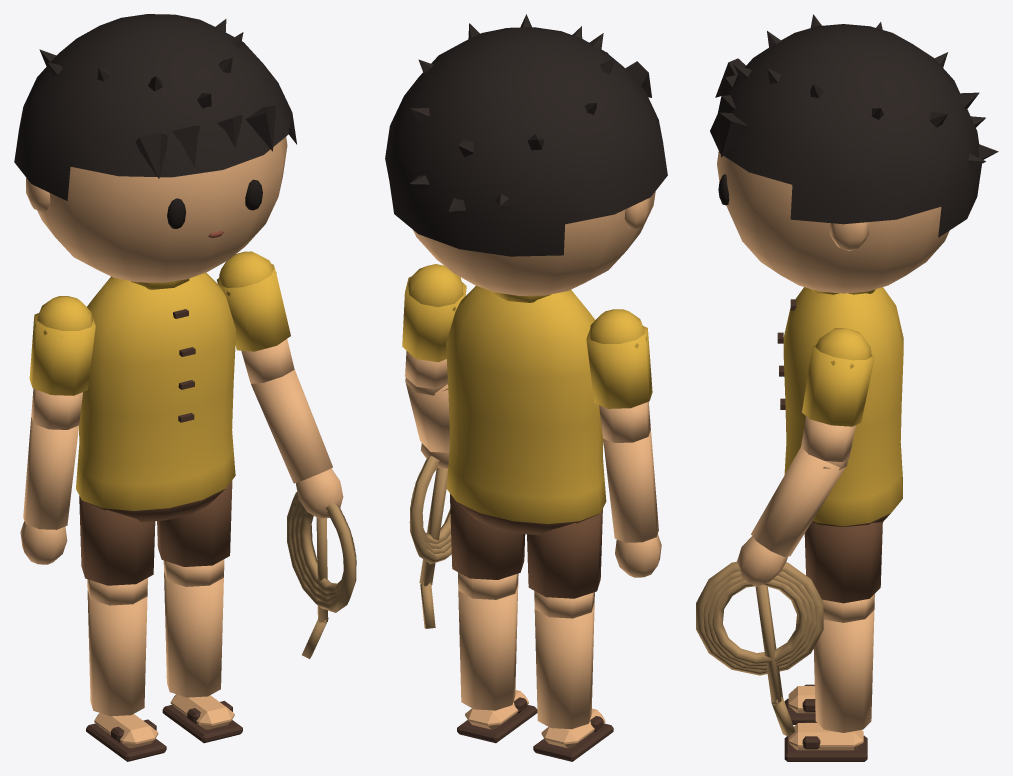
File: era1_boy_rope.glb
The picture shows the model from 3 angles, left to right: view 1: azimuth 30°, elevation 25°; view 2: azimuth 150°, elevation 25°; view 3: azimuth 270°, elevation 25°; orthographic projection.
Visible parts, largest first — view 1: head, body, shin_R, shin_L, arm_R, arm_L, leg_R, forearm_L, forearm_R, prop_rope_coil, leg_L; view 2: head, body, shin_R, shin_L, arm_R, leg_R, forearm_R, arm_L, leg_L, prop_rope_coil, forearm_L; view 3: head, body, shin_L, prop_rope_coil, arm_L, leg_L, forearm_L, shin_R.
Part boxes in pixels (x1,y1,x2,y2): head: (14, 14, 296, 282); body: (76, 272, 236, 522); shin_R: (86, 590, 166, 761); shin_L: (162, 571, 242, 743); arm_R: (29, 296, 95, 429); arm_L: (217, 251, 294, 383); leg_R: (79, 496, 155, 605); forearm_L: (251, 369, 343, 518); forearm_R: (20, 417, 78, 564); prop_rope_coil: (287, 492, 356, 658); leg_L: (157, 480, 232, 586); head: (385, 14, 667, 295); body: (446, 285, 606, 535); shin_R: (533, 603, 613, 761); shin_L: (457, 584, 537, 743); arm_R: (586, 309, 652, 442); leg_R: (527, 509, 602, 618); forearm_R: (603, 430, 661, 577); arm_L: (402, 264, 466, 395); leg_L: (450, 493, 525, 599); prop_rope_coil: (409, 456, 451, 628); forearm_L: (405, 377, 449, 468); head: (710, 14, 998, 293); body: (777, 287, 903, 526); shin_L: (784, 610, 874, 761); prop_rope_coil: (696, 561, 823, 736); arm_L: (801, 328, 874, 470); leg_L: (804, 522, 882, 622); forearm_L: (737, 447, 848, 586); shin_R: (784, 684, 815, 724).
Bounding box in the file's own units: 0.5431 × 1.32 × 0.5177.
